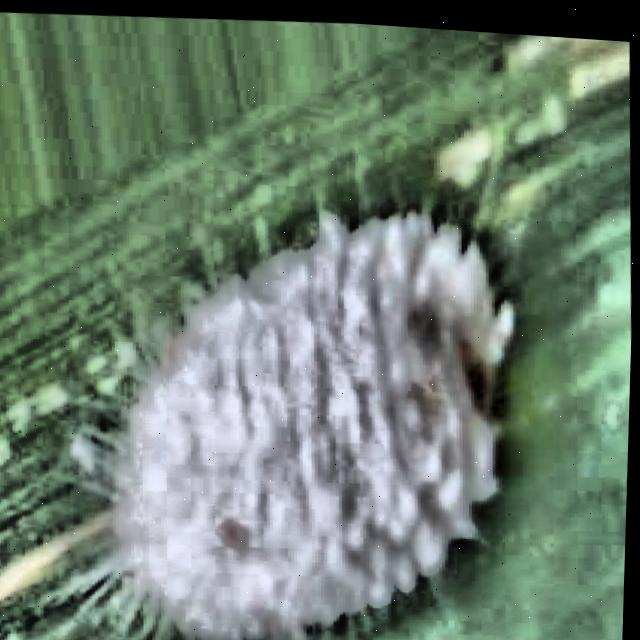Mealy-bug: (0, 84, 638, 640)
